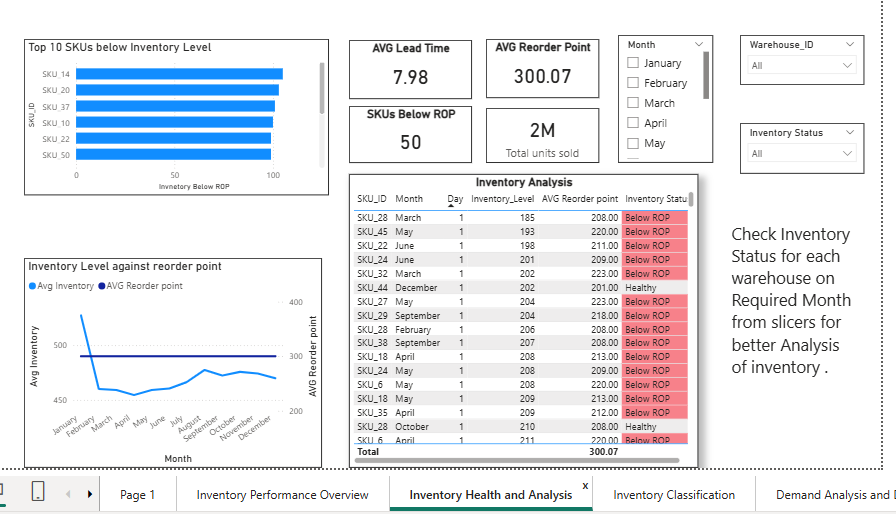

This screenshot's page, from the dashboard's own definition file:
{"tool":"powerbi","page":{"name":"Inventory Health and Analysis ","canvas":[1280,720],"ordinal":2},"visuals":[{"type":"barChart","title":"Top 10 SKUs below Inventory Level ","fields":{"Category":["Table 1.SKU_ID"],"Y":["Table 1.Invnetory Below ROP"]},"box":[44.6,102.2,439.2,224.6],"z":0},{"type":"lineChart","title":"Inventory Level against reorder point ","fields":{"Category":["Table 1.Date.Variation.Date Hierarchy.Month"],"Y":["Table 1.Avg Inventory"],"Y2":["Table 1.AVG Reorder point"]},"box":[44.6,417.6,429.1,302.4],"z":1000},{"type":"slicer","fields":{"Values":["Table 1.Date.Variation.Date Hierarchy.Month"]},"box":[900,96.5,136.8,184.3],"z":2000},{"type":"tableEx","title":"Inventory Analysis ","fields":{"Values":["Table 1.SKU_ID","Table 1.Date.Variation.Date Hierarchy.Month","Table 1.Date.Variation.Date Hierarchy.Day","Table 1.Inventory_Level","Table 1.AVG Reorder point","Table 1.Inventory Status"]},"box":[512.6,296.6,502.6,423.4],"z":3000},{"type":"slicer","fields":{"Values":["Table 1.Inventory Status"]},"box":[1075.7,223.2,178.6,73.4],"z":4000},{"type":"card","title":"SKUs Below ROP","fields":{"Values":["Table 1.Sku Ids below inventory level"]},"box":[512.6,198.7,177.1,82.1],"z":5000},{"type":"slicer","fields":{"Values":["Table 1.Warehouse_ID"]},"box":[1075.7,96.5,178.6,72],"z":7000},{"type":"card","title":"AVG Lead Time ","fields":{"Values":["Table 1.Avg lead time avg function"]},"box":[512.6,103.7,177.1,85],"z":8000},{"type":"card","title":"AVG Reorder Point ","fields":{"Values":["Table 1.Avg reorer point"]},"box":[709.9,102.2,162.7,85],"z":9000},{"type":"card","fields":{"Values":["Table 1.Total units sold"]},"box":[709.9,201.6,162.7,79.2],"z":10000},{"type":"textbox","box":[1058.4,360,182.9,260.6],"z":11000}]}

Visuals, with their boxes in screenshot pixels (x1, y1, x2, y2):
"Top 10 SKUs below Inventory Level " barChart: 24,38,327,193
"Inventory Level against reorder point " lineChart: 24,256,320,464
slicer - Table 1.Date.Variation.Date Hierarchy.Month: 614,34,709,161
"Inventory Analysis " tableEx: 347,172,694,464
slicer - Table 1.Inventory Status: 736,121,859,172
"SKUs Below ROP" card: 347,104,469,161
slicer - Table 1.Warehouse_ID: 736,34,859,84
"AVG Lead Time " card: 347,39,469,98
"AVG Reorder Point " card: 483,38,595,97
card - Table 1.Total units sold: 483,106,595,161
textbox: 724,216,850,396
